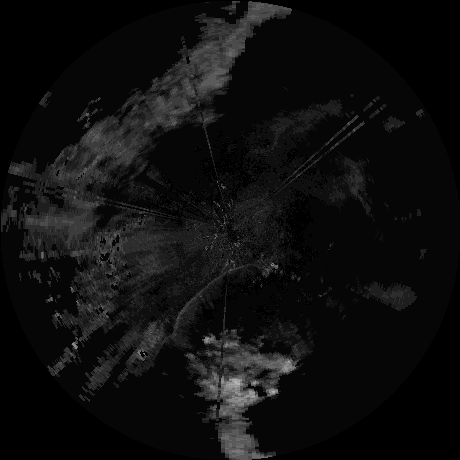frontgust: (175, 262, 254, 334)
